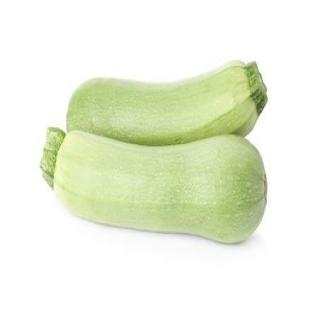Zucchini: (41, 129, 266, 242), (67, 62, 266, 145)
